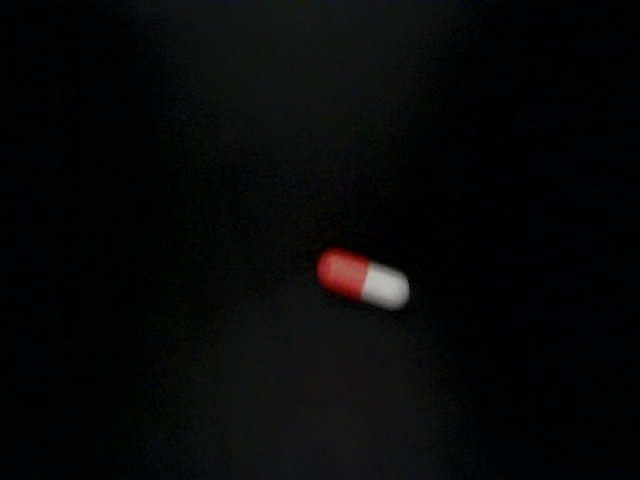YHLJ: (562, 14, 624, 122)
